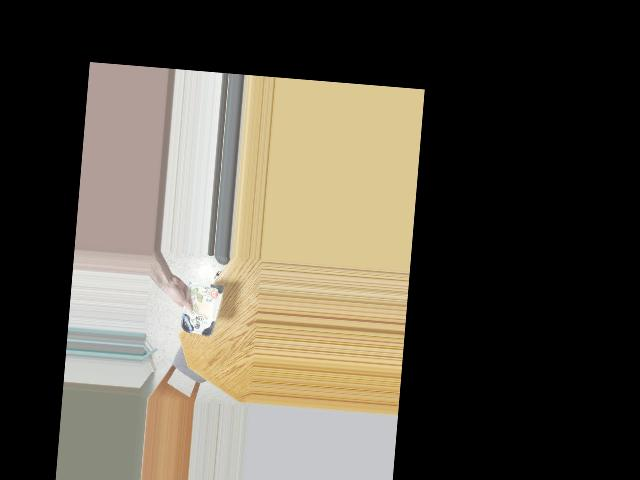cheese: (173, 280, 224, 335)
